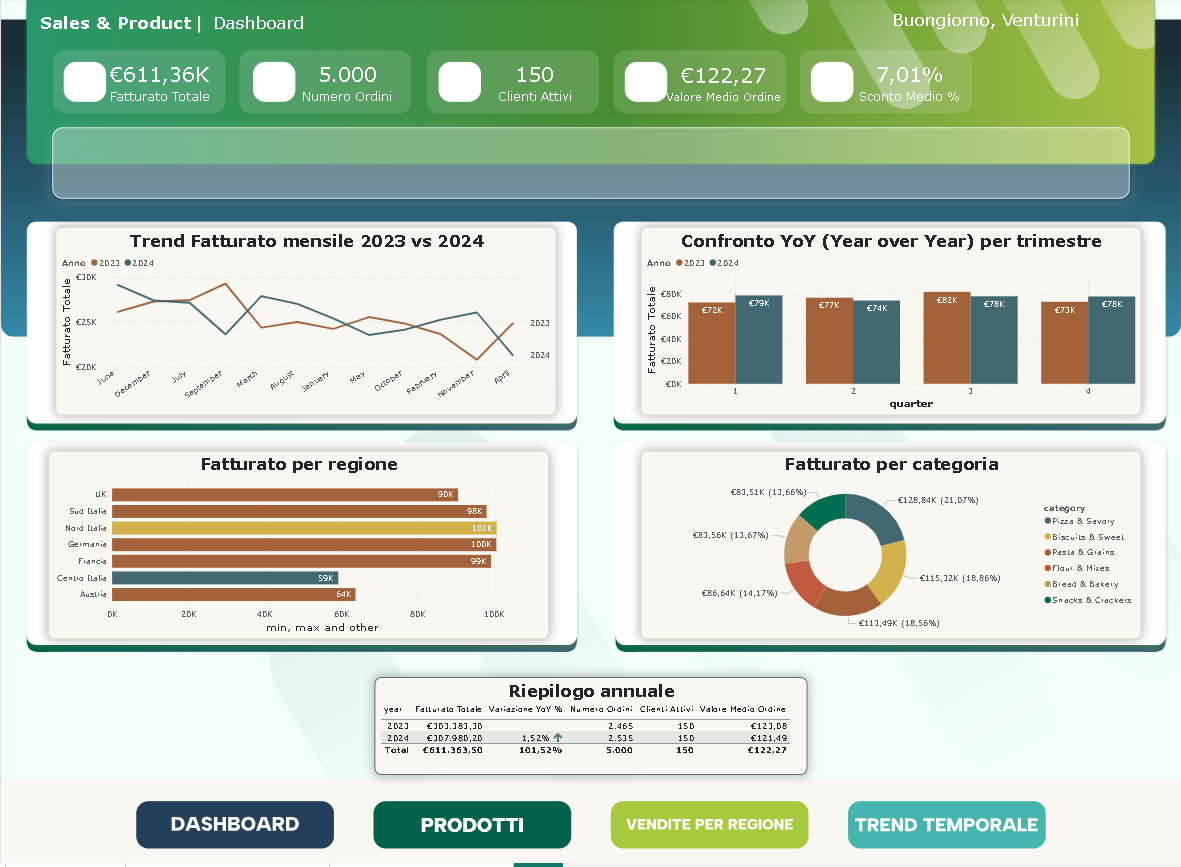

The page's visual inventory and layout, read from the dashboard file:
{"tool":"powerbi","page":{"name":"DASHBOARD","canvas":[1889,1406],"ordinal":0},"visuals":[{"type":"card","fields":{"Values":["_Measures.Fatturato Totale"]},"box":[104,94,300,90],"z":0},{"type":"card","fields":{"Values":["_Measures.Numero Ordini"]},"box":[404,94,300,90],"z":1000},{"type":"card","fields":{"Values":["_Measures.Clienti Attivi"]},"box":[704,94,300,90],"z":2000},{"type":"card","fields":{"Values":["_Measures.Valore Medio Ordine"]},"box":[1038,94,236,90],"z":3000},{"type":"card","fields":{"Values":["_Measures.Sconto Medio %"]},"box":[1304,94,300,90],"z":4000},{"type":"lineChart","title":"Trend Fatturato mensile 2023 vs 2024","fields":{"Category":["Calendar.month_name"],"Series":["Calendar.year"],"Y":["_Measures.Fatturato Totale"]},"box":[88,372,800,300],"z":5000},{"type":"clusteredColumnChart","title":"Confronto YoY (Year over Year) per trimestre","fields":{"Category":["Calendar.quarter"],"Series":["Calendar.year"],"Y":["_Measures.Fatturato Totale"]},"box":[1024,372,800,300],"z":6000},{"type":"barChart","title":"Fatturato per regione","fields":{"Category":["Customers.region"],"Y":["_Measures.Fatturato Totale","select","select1","select2"]},"box":[76,730,800,300],"z":7000},{"type":"donutChart","title":"Fatturato per categoria","fields":{"Category":["Products.category"],"Y":["_Measures.Fatturato Totale"]},"box":[1024,730,800,300],"z":8000},{"type":"tableEx","title":"Riepilogo annuale","fields":{"Values":["Calendar.year","_Measures.Fatturato Totale","_Measures.Variazione YoY %","_Measures.Numero Ordini","_Measures.Clienti Attivi","_Measures.Valore Medio Ordine"]},"box":[598.3,1091.7,691.7,155],"z":9000},{"type":"shape","box":[597.5,1280,315,97.5],"z":10000},{"type":"shape","box":[975,1277.5,315,97.5],"z":11000},{"type":"shape","box":[1357.5,1282.5,315,97.5],"z":12000},{"type":"card","fields":{"Values":["_Measures.Titolo"]},"box":[52,12,262,68],"z":13000},{"type":"card","fields":{"Values":["_Measures.Dashboard"]},"box":[316,12,194,68],"z":14000},{"type":"card","fields":{"Values":["_Measures.Messaggio_benvenuto"]},"box":[1340,12,502,68],"z":15000}]}

Visuals, with their boxes in screenshot pixels (x1, y1, x2, y2), scaled from the page's 1889x1406 canvas onto the 1181x867 screenshot:
card - _Measures.Fatturato Totale: bbox=[65, 58, 253, 113]
card - _Measures.Numero Ordini: bbox=[253, 58, 440, 113]
card - _Measures.Clienti Attivi: bbox=[440, 58, 628, 113]
card - _Measures.Valore Medio Ordine: bbox=[649, 58, 797, 113]
card - _Measures.Sconto Medio %: bbox=[815, 58, 1003, 113]
"Trend Fatturato mensile 2023 vs 2024" lineChart: bbox=[55, 229, 555, 414]
"Confronto YoY (Year over Year) per trimestre" clusteredColumnChart: bbox=[640, 229, 1140, 414]
"Fatturato per regione" barChart: bbox=[48, 450, 548, 635]
"Fatturato per categoria" donutChart: bbox=[640, 450, 1140, 635]
"Riepilogo annuale" tableEx: bbox=[374, 673, 807, 769]
shape: bbox=[374, 789, 570, 849]
shape: bbox=[610, 788, 807, 848]
shape: bbox=[849, 791, 1046, 851]
card - _Measures.Titolo: bbox=[33, 7, 196, 49]
card - _Measures.Dashboard: bbox=[198, 7, 319, 49]
card - _Measures.Messaggio_benvenuto: bbox=[838, 7, 1152, 49]
